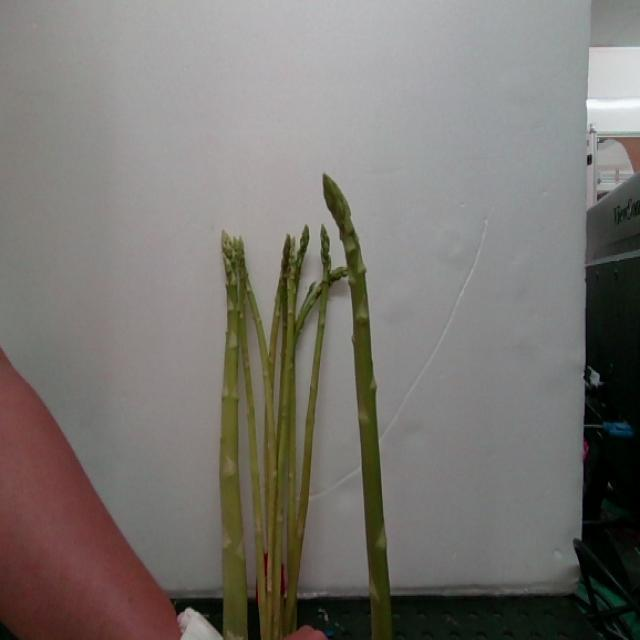aspargus: (324, 176, 393, 640)
